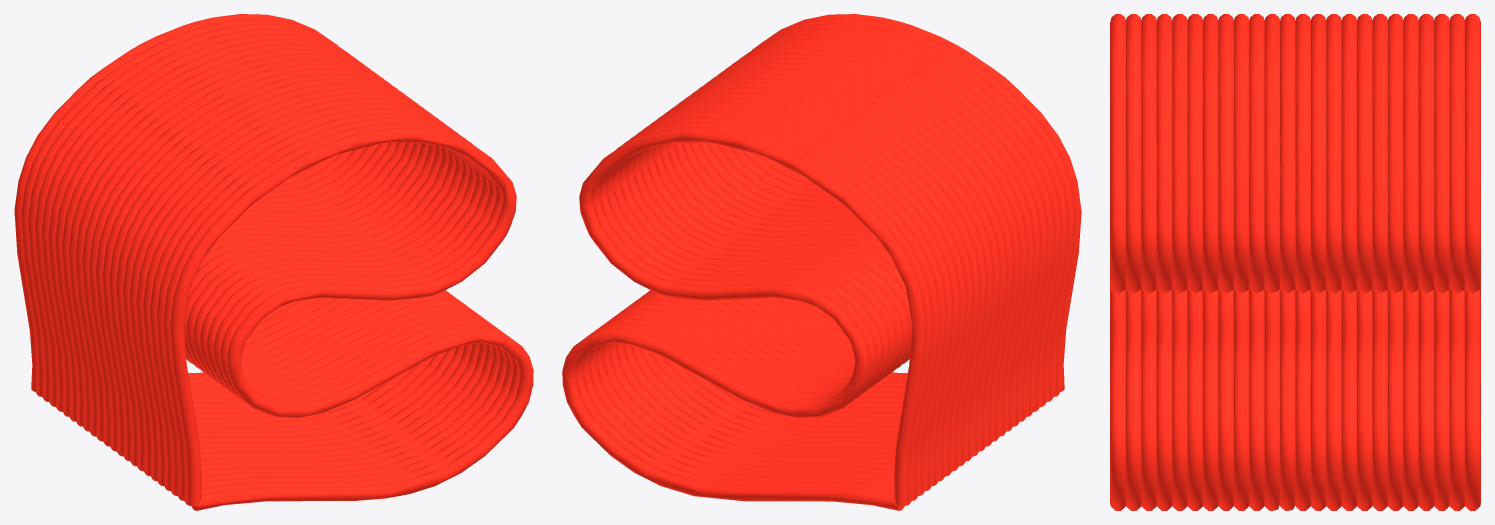
File: ref01_02.glb
3 renders of one model, left to right at view 1: azimuth 30°, elevation 25°; view 2: azimuth 150°, elevation 25°; view 3: azimuth 270°, elevation 25°, orthographic. The views are drawn at different scales.
Parts seen in each view (by area): view 1: ref01_02; view 2: ref01_02; view 3: ref01_02.
Part boxes in pixels (bbox=[...]): ref01_02: bbox=[14, 14, 533, 510]; ref01_02: bbox=[562, 14, 1081, 510]; ref01_02: bbox=[1110, 14, 1480, 510].
Size of the model in its own units: 0.5249 by 0.5142 by 0.4092.
